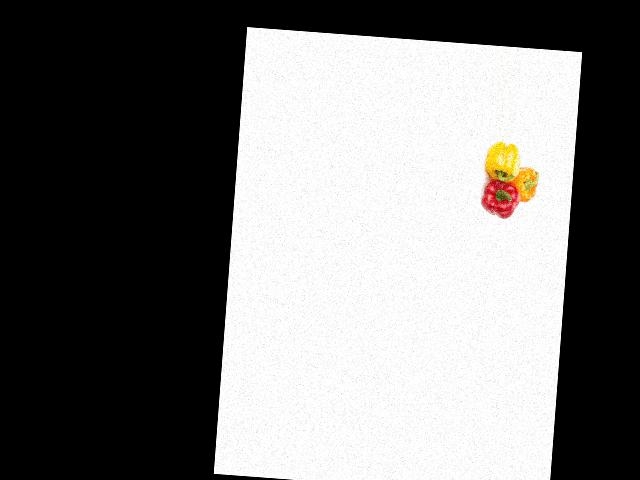bell_pepper: (481, 140, 522, 181)
